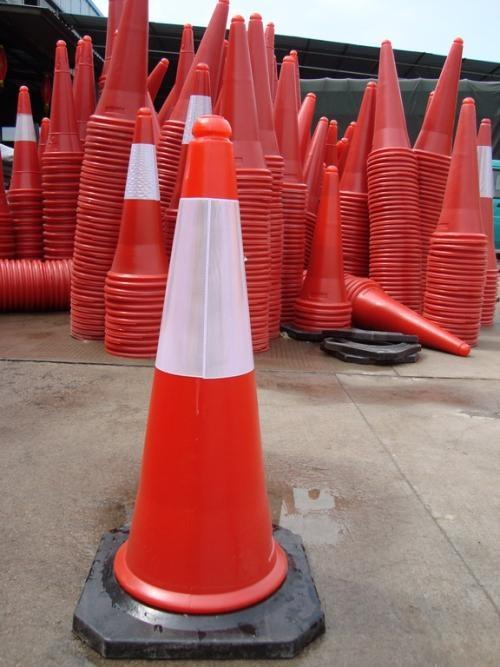cone_barrel: (113, 115, 291, 635), (109, 105, 165, 283), (210, 13, 273, 163), (434, 103, 493, 239), (293, 163, 349, 305), (414, 38, 464, 154), (365, 35, 414, 152), (45, 37, 76, 154), (5, 83, 39, 187), (171, 20, 195, 90)
